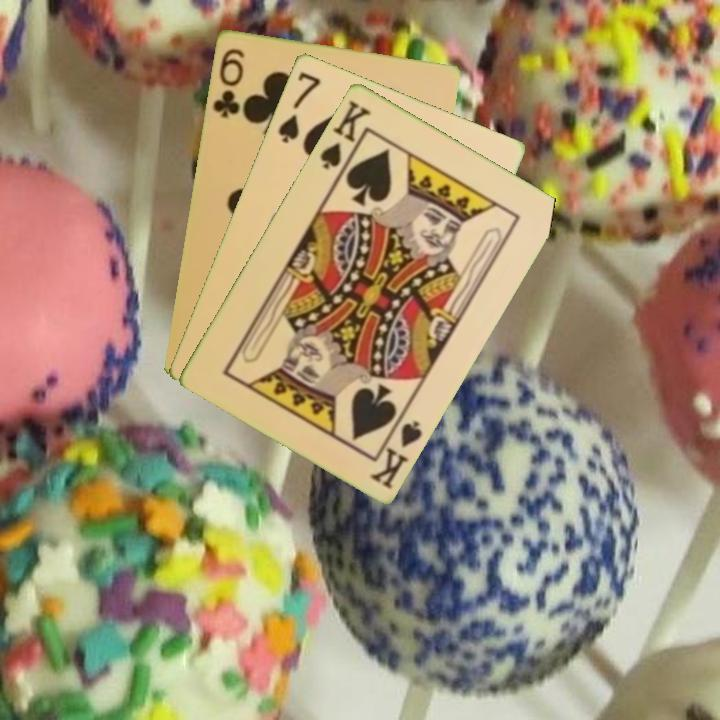6c: (209, 44, 248, 120)
7s: (274, 67, 324, 146)
Ks: (365, 408, 425, 492), (316, 96, 374, 178)
